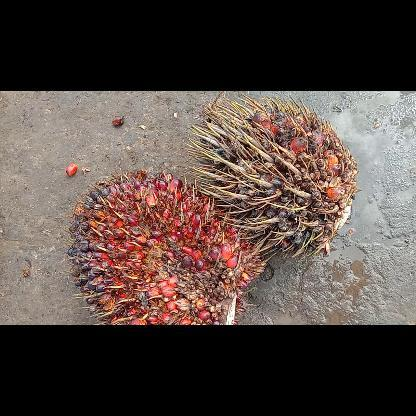TBS abnormal: (185, 90, 359, 260)
TBS masak: (68, 170, 268, 324)
